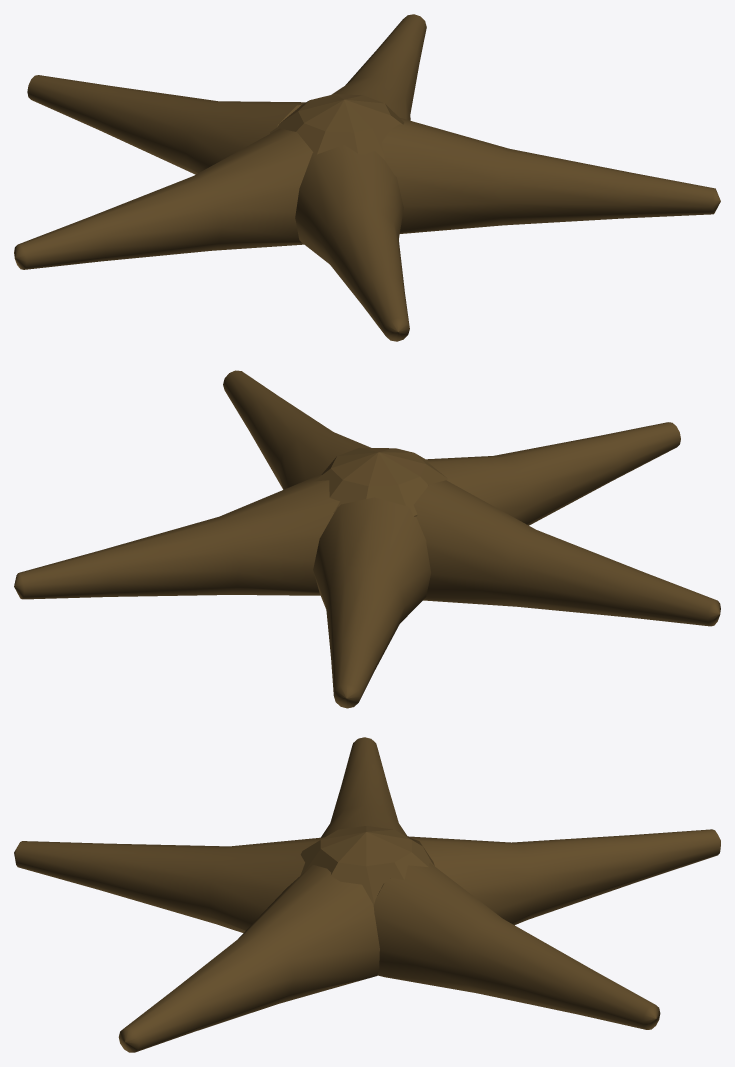
File: starfish_brown.fbx
3 renders of one model, top to bottom at view 1: azimuth 30°, elevation 25°; view 2: azimuth 150°, elevation 25°; view 3: azimuth 270°, elevation 25°, orthographic. The views are drawn at different scales.
Parts seen in each view (by area): view 1: pCone6; view 2: pCone6; view 3: pCone6.
Boxes of the visible parts, <box> form: pCone6: <box>14,14,720,341</box>; pCone6: <box>14,370,720,708</box>; pCone6: <box>14,737,720,1052</box>.
Bounding box in the file's own units: 10.51 × 2.18 × 10.61.
